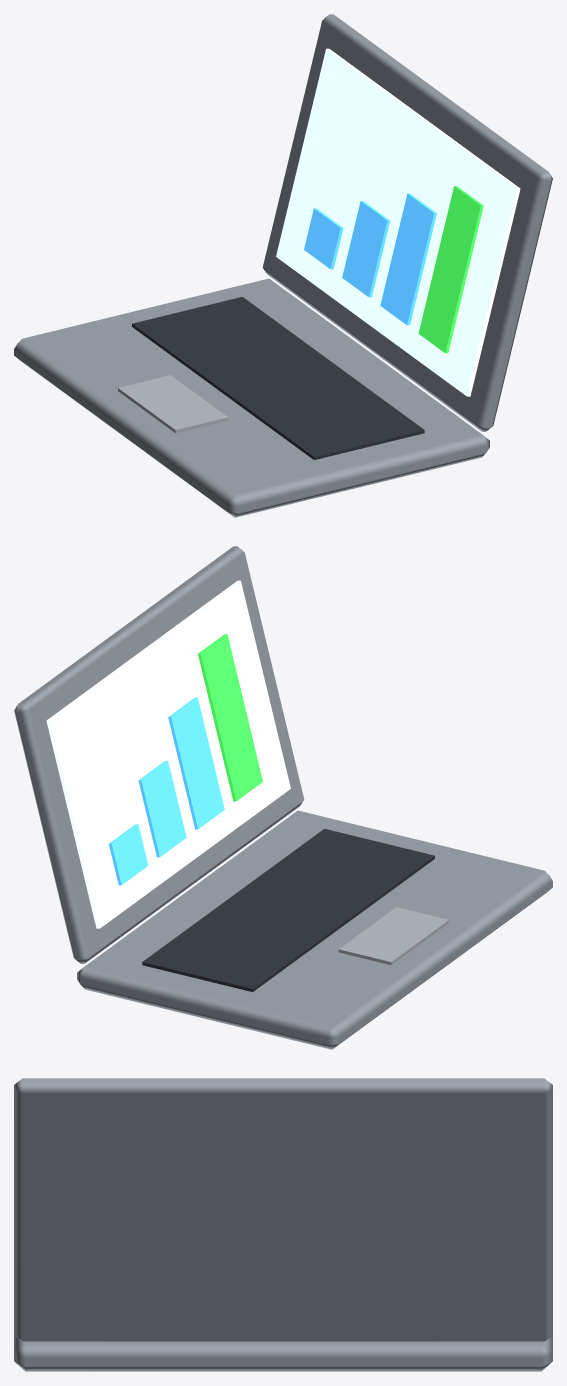
Rendered from station_buffer_ausstattung_1_1.glb.
3 renders of one model, top to bottom at view 1: azimuth 30°, elevation 25°; view 2: azimuth 150°, elevation 25°; view 3: azimuth 270°, elevation 25°, orthographic. The views are drawn at different scales.
Parts seen in each view (by area): view 1: station_buffer_ausstattung_1_1; view 2: station_buffer_ausstattung_1_1; view 3: station_buffer_ausstattung_1_1.
Boxes of the visible parts, x1,y1,x2,y2 form: station_buffer_ausstattung_1_1: [14, 14, 552, 517]; station_buffer_ausstattung_1_1: [14, 546, 552, 1049]; station_buffer_ausstattung_1_1: [14, 1078, 552, 1371].
Size of the model in its own units: 0.321 by 0.2564 by 0.38.
